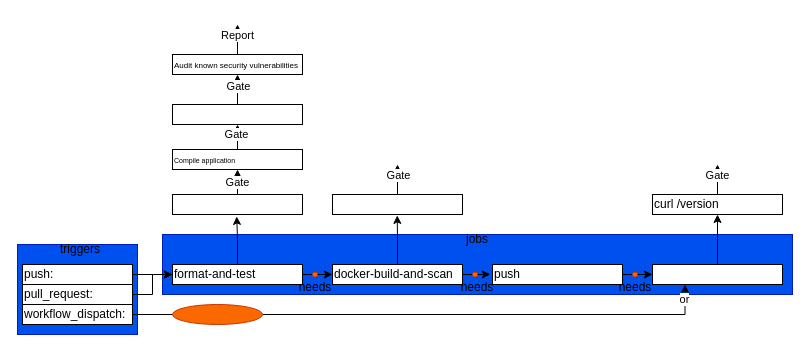
Some shapes in this 810 by 352 pixel diagram are drawn without their labels. Here are the shapes that lost their labels. From the top down, the box of each, then its label:
(172, 104, 302, 124): unit and integration tests
(172, 194, 302, 214): Check .NET formatting guidlines
(332, 194, 462, 214): Trivy
(652, 264, 782, 284): deploy
(172, 304, 262, 324): redeploy_only
